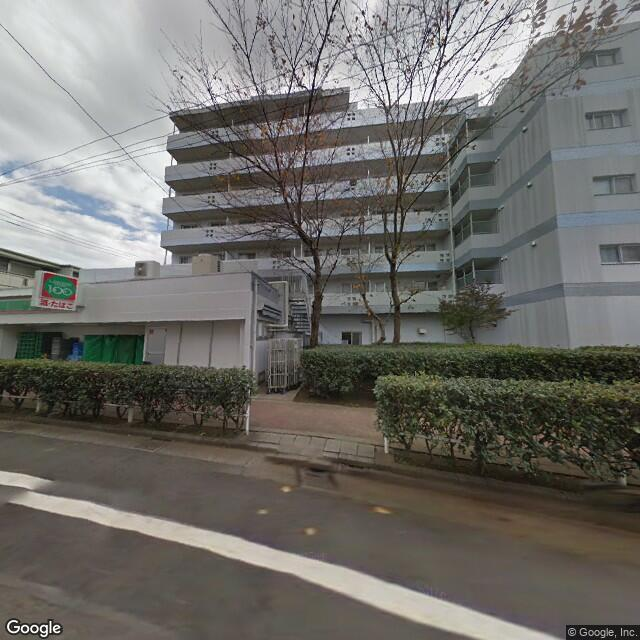lawson: (35, 271, 78, 312)
